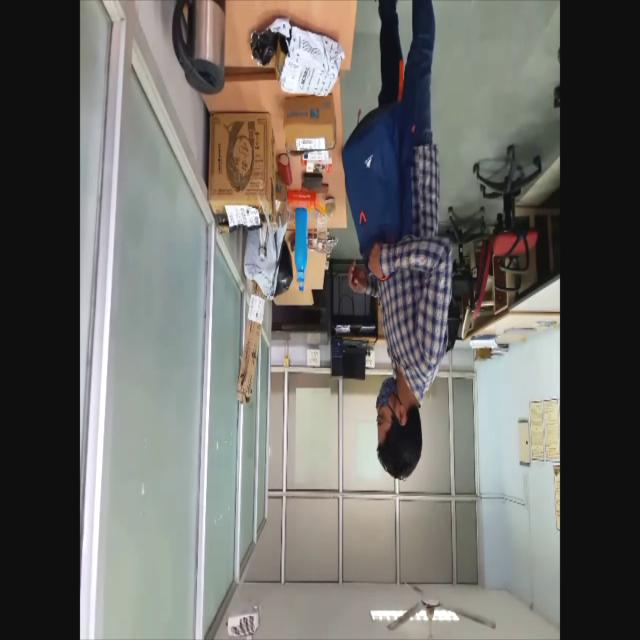normal: (340, 0, 458, 484)
